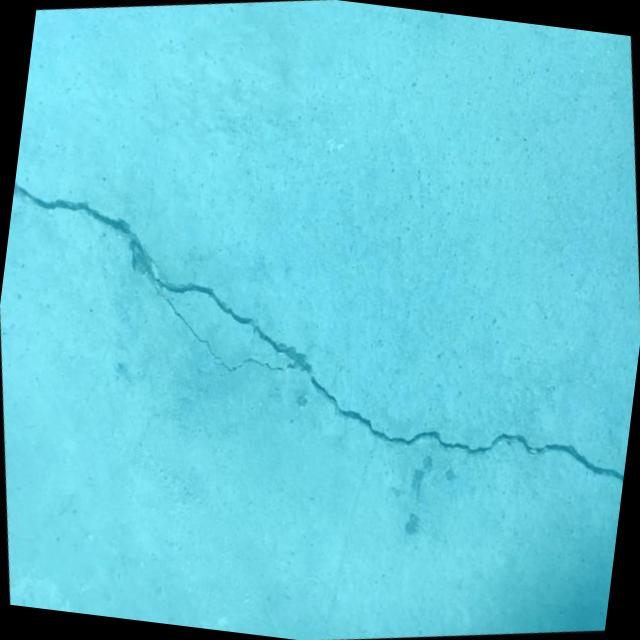crack: (0, 41, 640, 602)
